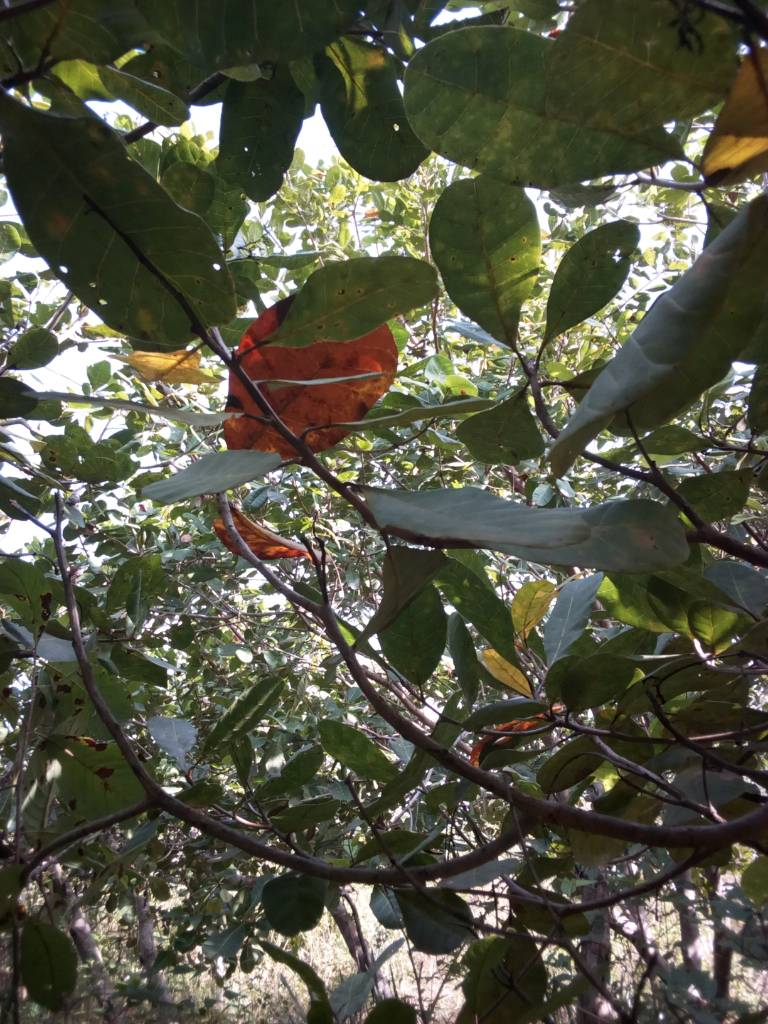Pestalotiose: (8, 107, 235, 349), (435, 177, 538, 338), (263, 257, 440, 349)
